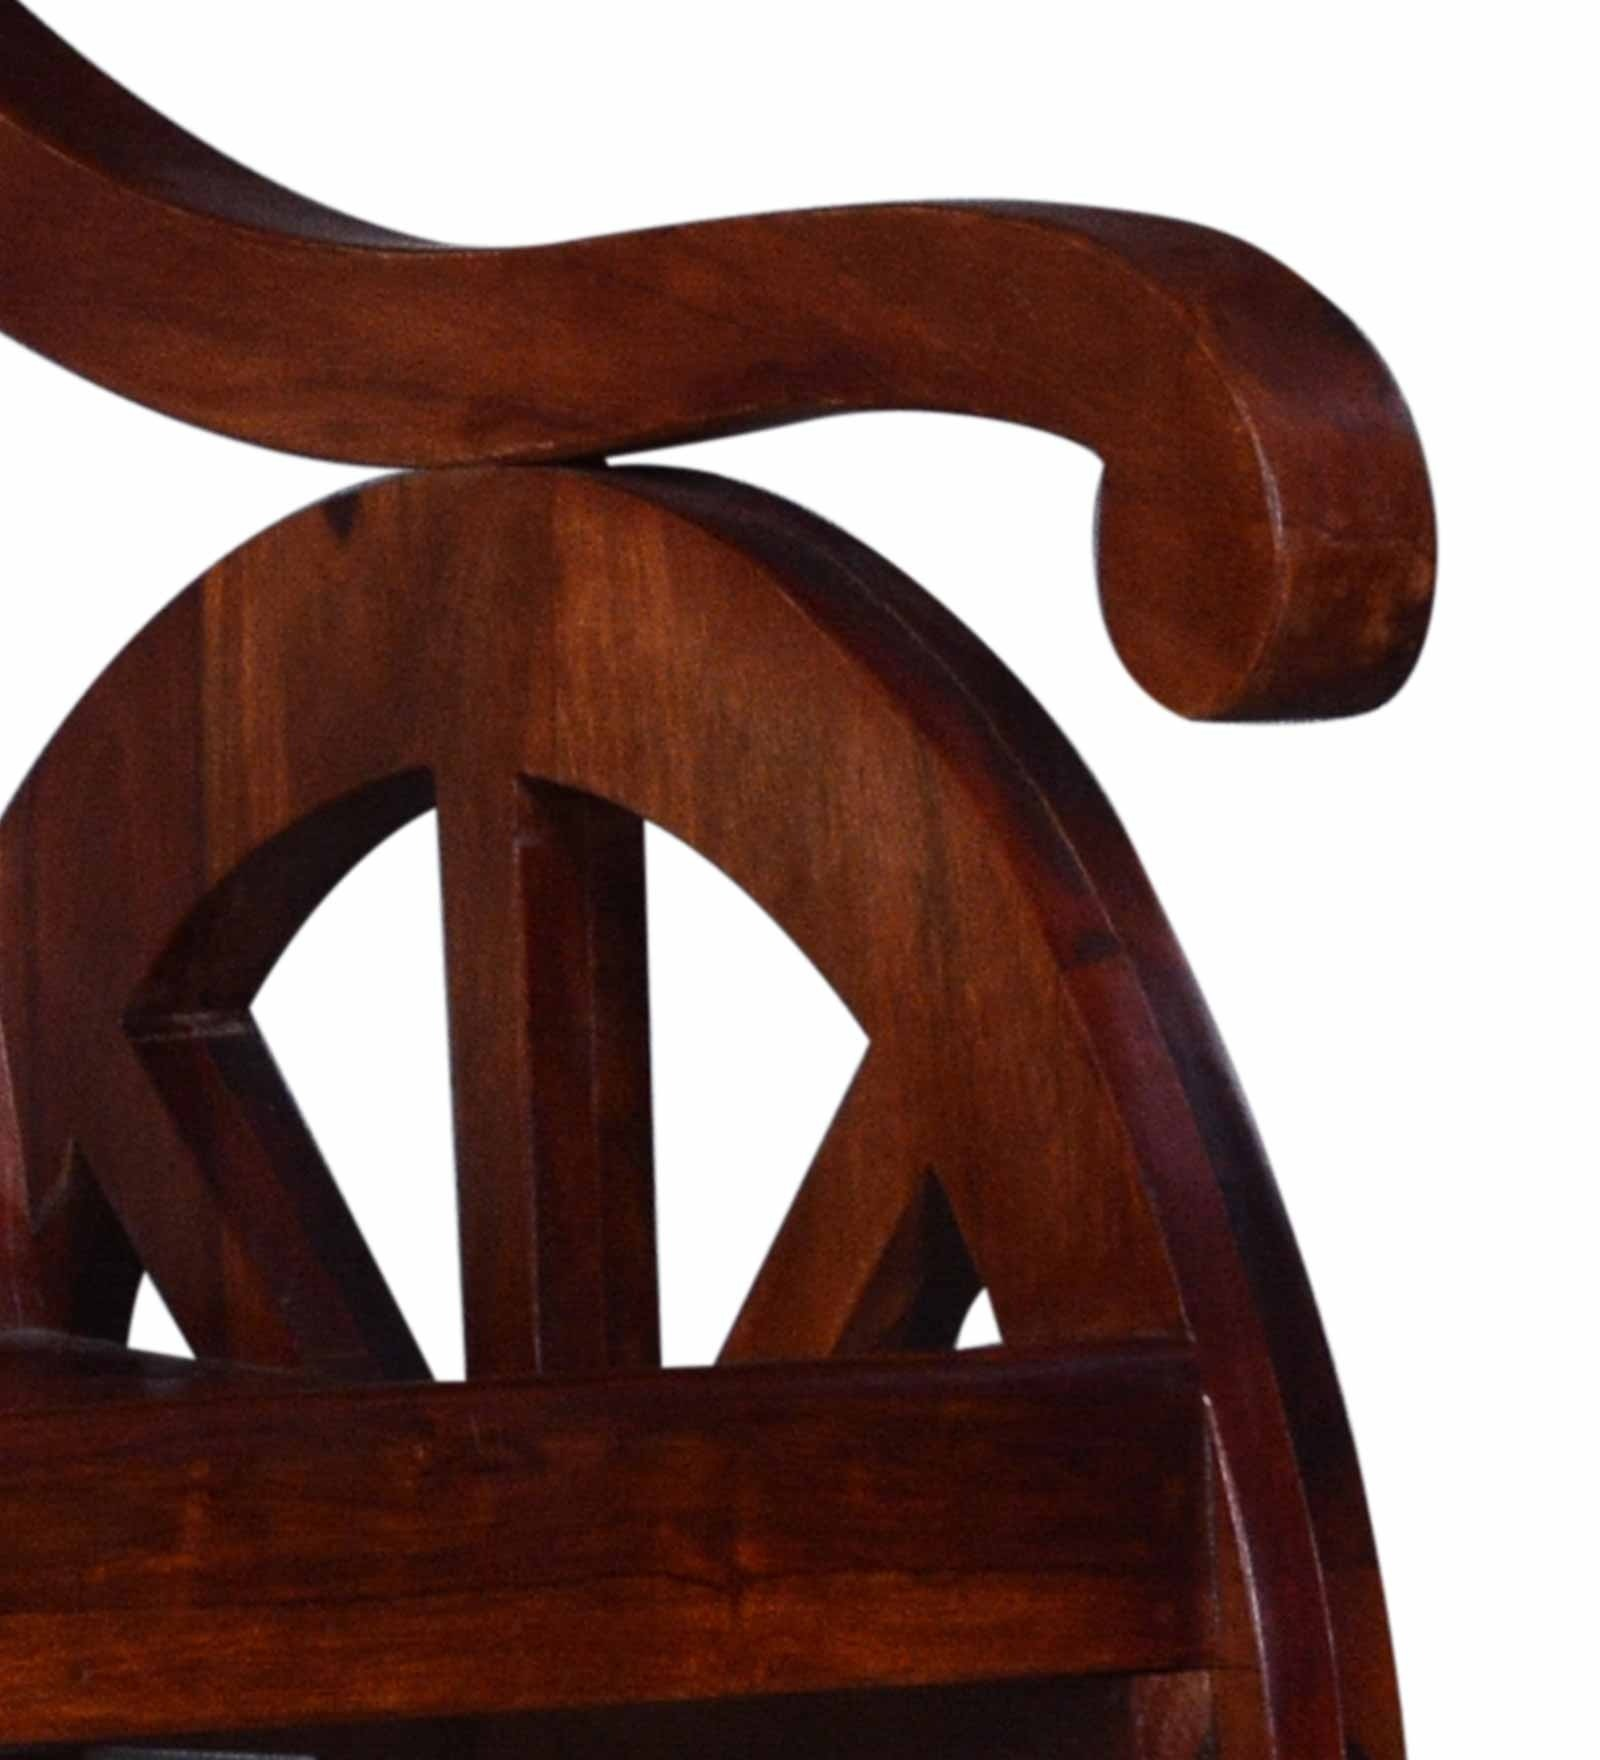Harold Rocking Chair in Honey Oak Finish by Amberville: (12, 9, 1487, 1760)
